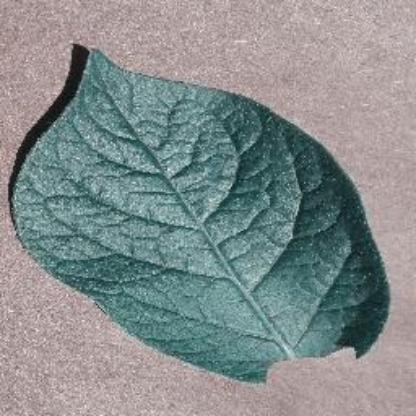Healthy-plant: (16, 28, 408, 397)
